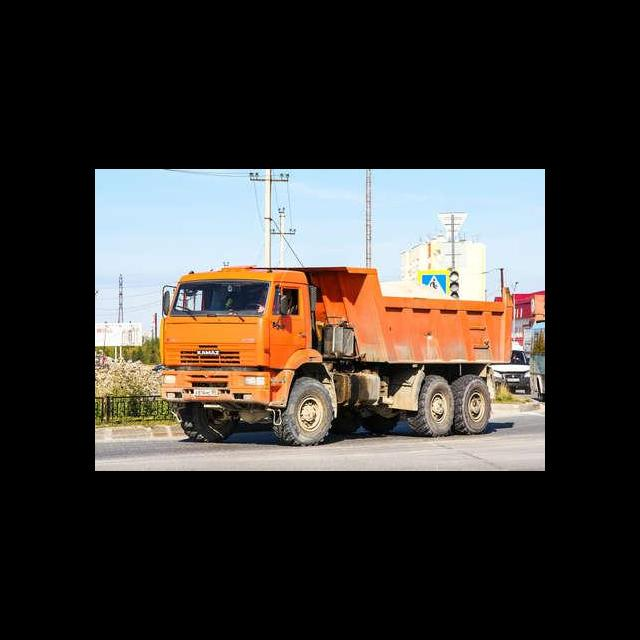Person: (259, 292, 281, 314)
dump truck: (154, 260, 515, 445), (489, 290, 545, 361), (526, 322, 545, 401)
sedan: (152, 364, 165, 370)
van: (489, 341, 530, 394)
